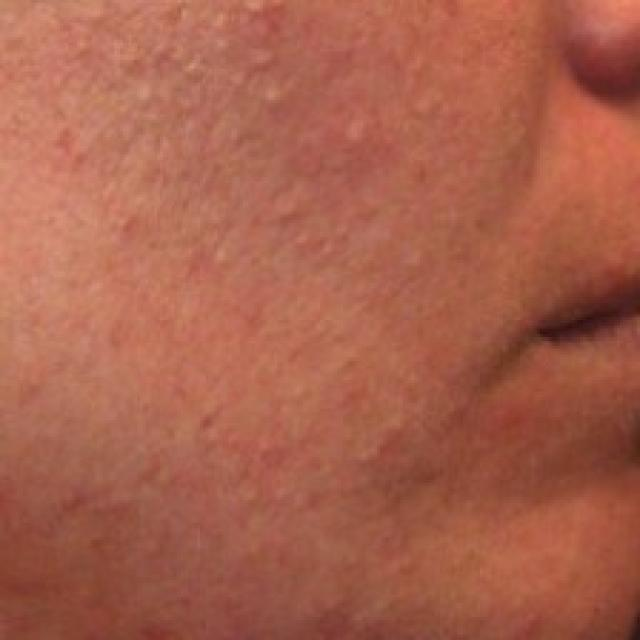Acne: (53, 0, 434, 492)
